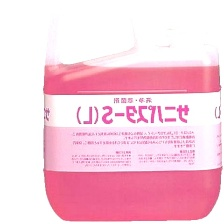cleaning_solution: (41, 1, 223, 222)
